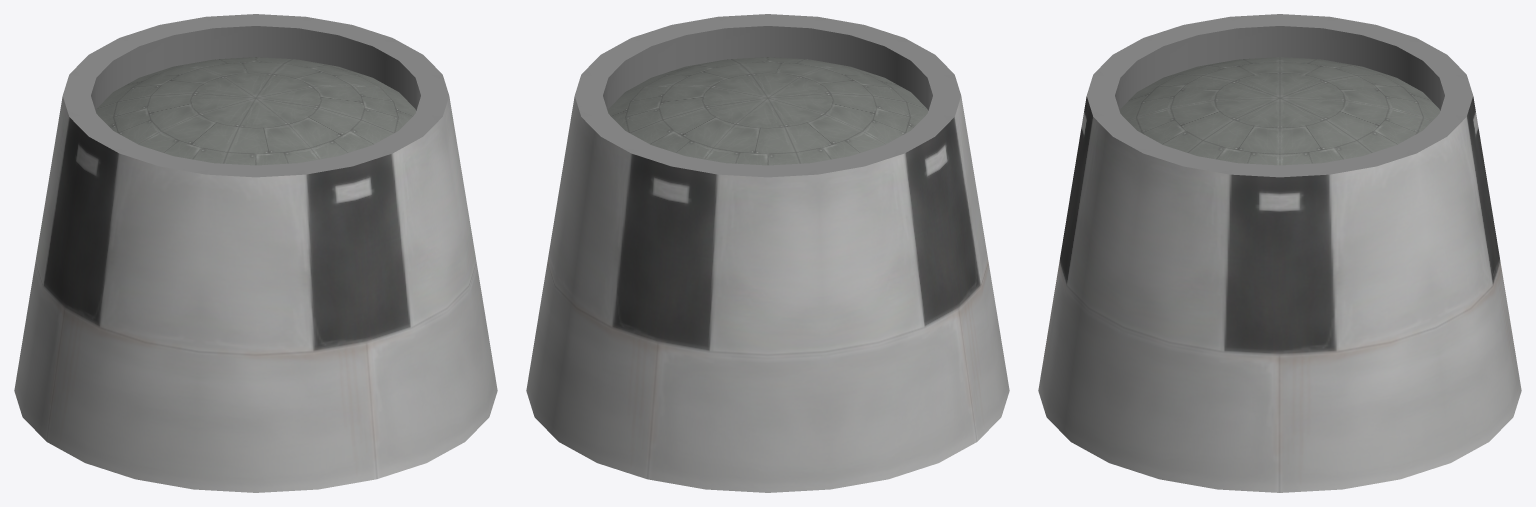
Rendered from Saturn_S4_25mAdapterTank.dae.
3 renders of one model, left to right at view 1: azimuth 30°, elevation 25°; view 2: azimuth 150°, elevation 25°; view 3: azimuth 270°, elevation 25°, orthographic.
Parts seen in each view (by area): view 1: SIV_25mAdapter3; view 2: SIV_25mAdapter3; view 3: SIV_25mAdapter3.
Boxes of the visible parts, left/top/right/bottom form: SIV_25mAdapter3: left=14, top=14, right=497, bottom=492; SIV_25mAdapter3: left=526, top=14, right=1009, bottom=492; SIV_25mAdapter3: left=1038, top=14, right=1521, bottom=492.
Size of the model in its own units: 3.12 by 2.11 by 3.12.
